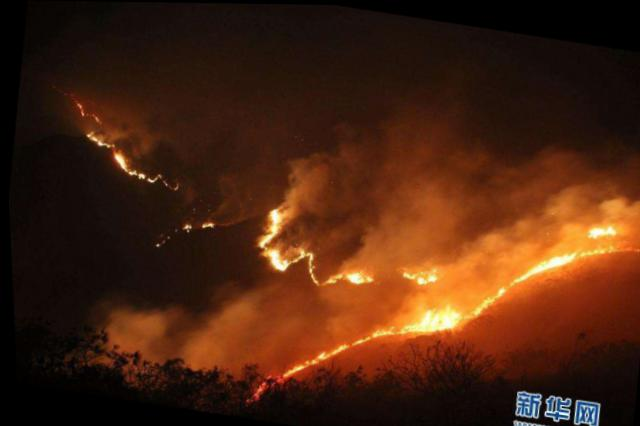fire: (233, 168, 639, 423), (55, 91, 191, 190)
